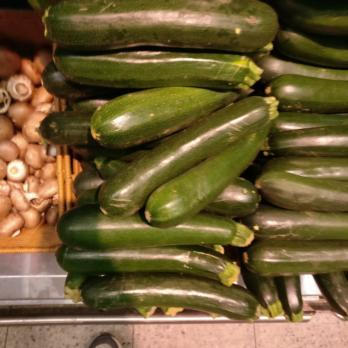Cucumber: (62, 4, 348, 310)
